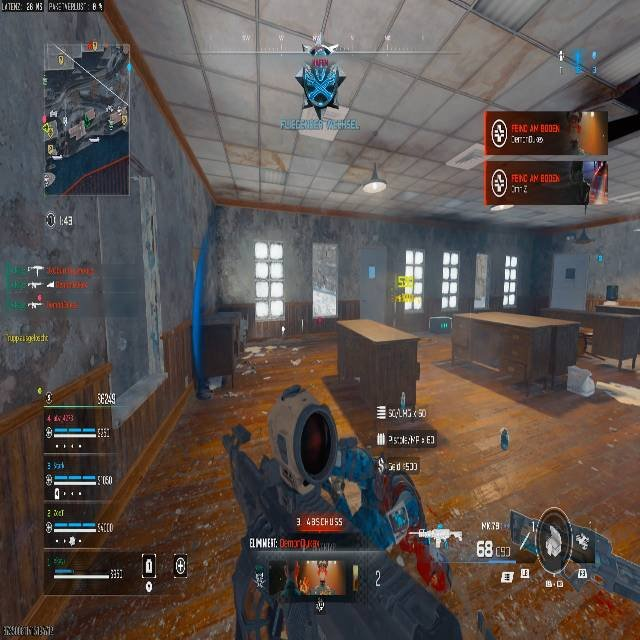head: (267, 384, 354, 479), (311, 45, 330, 56)
player: (225, 383, 473, 639), (293, 44, 345, 119)
